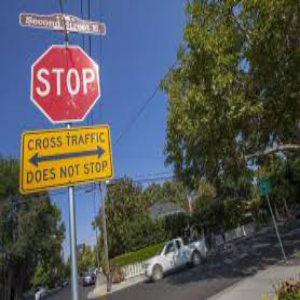STOP_SIGN: (30, 43, 101, 123)
